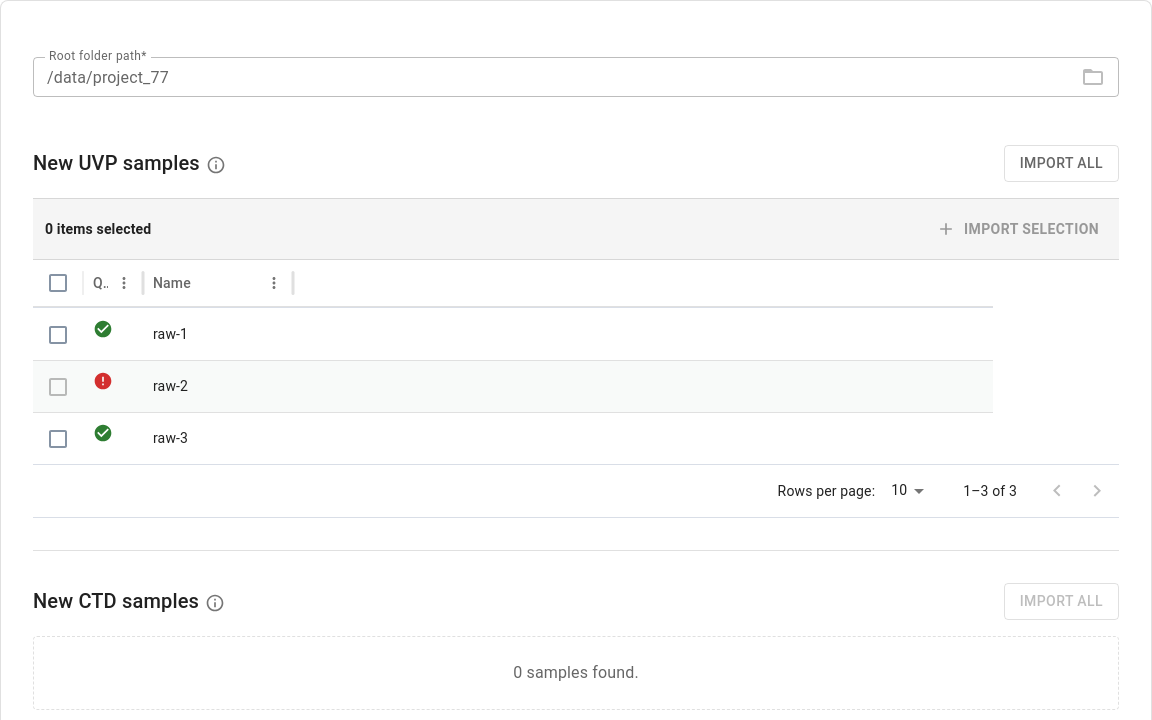
Test case: I. IMPORT TAB (ProjectImportTab) › Functional Tests › TC-N3b - partial importability shows a removable error card and blocks import (UI level)
Click the button "IMPORT ALL" in the row of "New UVP samples" at x=1061, y=163, box x1=1004 y1=145 x2=1119 y2=182
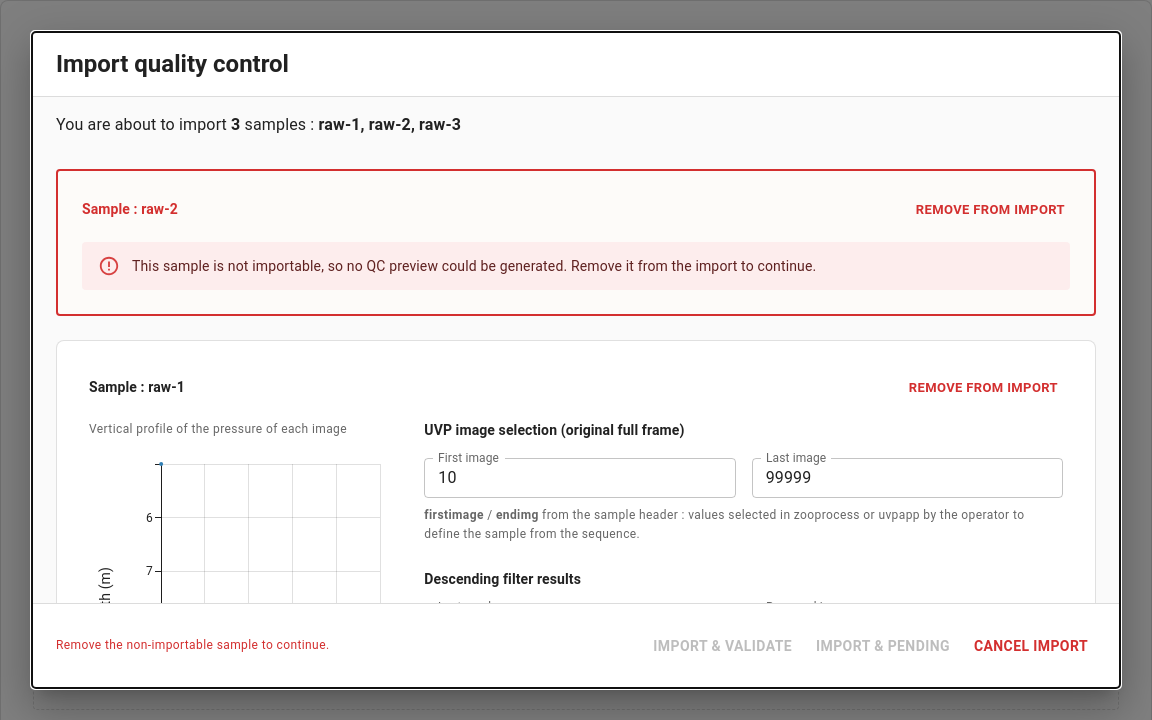
Check: the text "not importable" is shown, box x1=132 y1=258 x2=816 y2=274
Check: the number of buttons "REMOVE FROM IMPORT" is 3
Check: the button "IMPORT & VALIDATE" is disabled, box x1=645 y1=628 x2=800 y2=664
